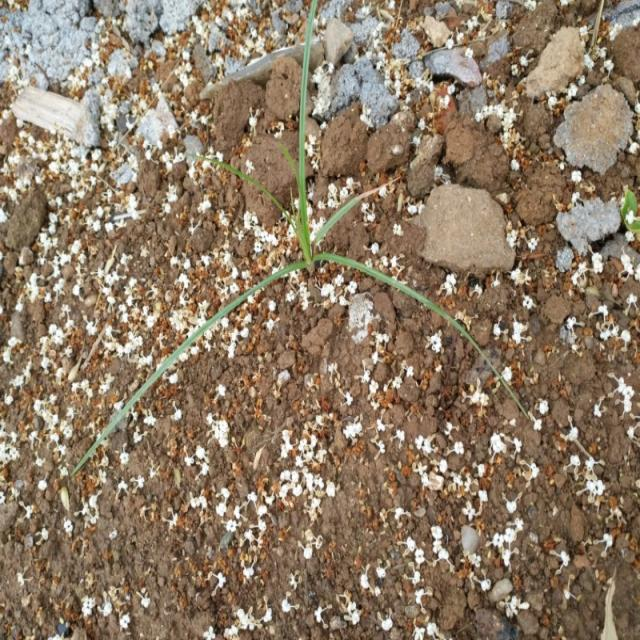sedge: (77, 25, 431, 408)
